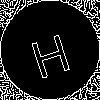H: (25, 25, 73, 80)
